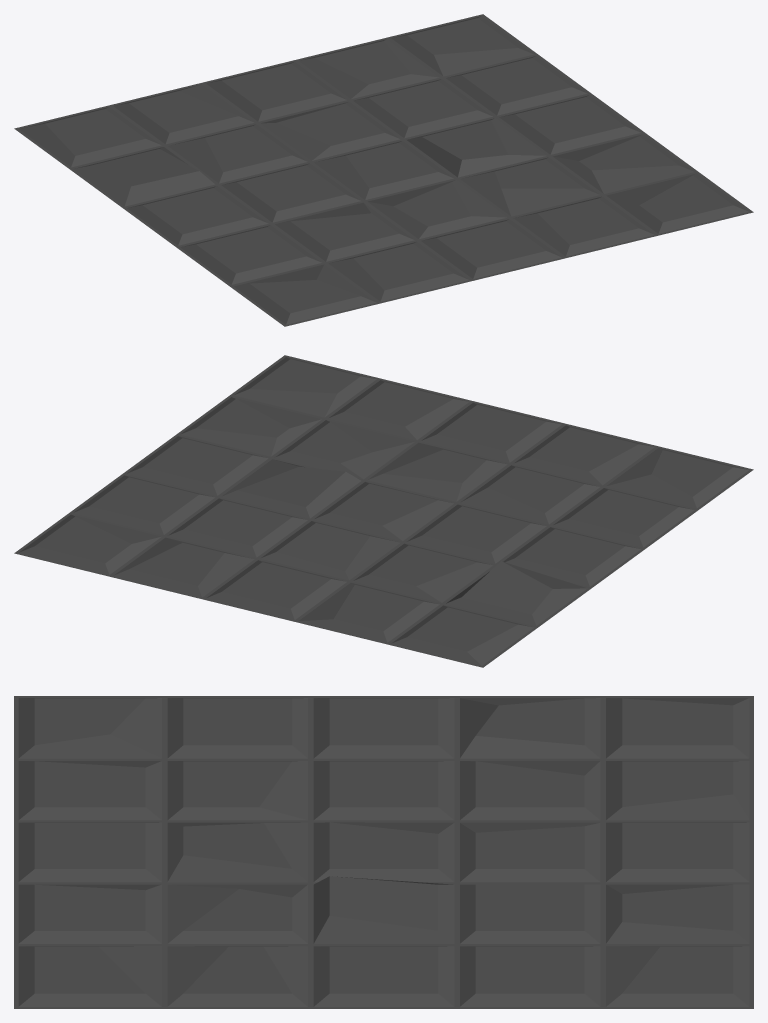
Rendered from Floor_03.fbx.
3 views of the same model, one above another, from view 1: azimuth 30°, elevation 25°; view 2: azimuth 150°, elevation 25°; view 3: azimuth 270°, elevation 25° (orthographic). The views are drawn at different scales.
Visible parts, largest first — view 1: Floor_03; view 2: Floor_03; view 3: Floor_03.
Boxes of the visible parts, x1=… form: Floor_03: x1=14, y1=14, x2=753, y2=326; Floor_03: x1=14, y1=355, x2=753, y2=667; Floor_03: x1=14, y1=696, x2=753, y2=1008.
Size of the model in its own units: 280 by 6.69 by 280.
